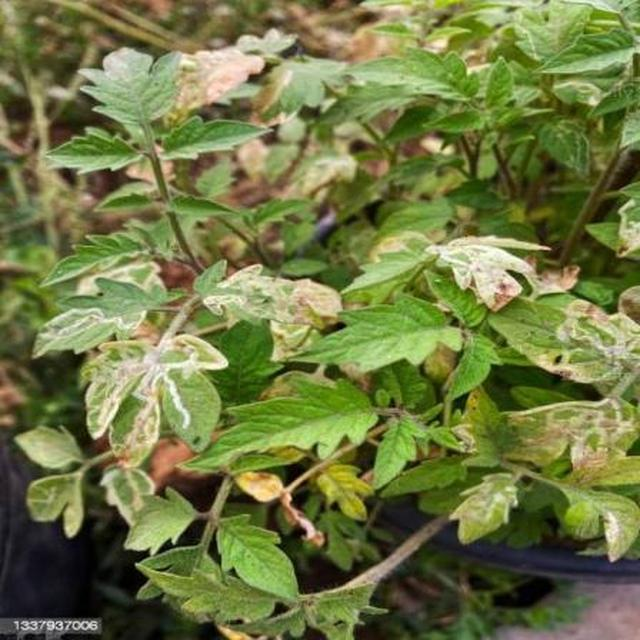Leaf Miner: (109, 67, 640, 640)
